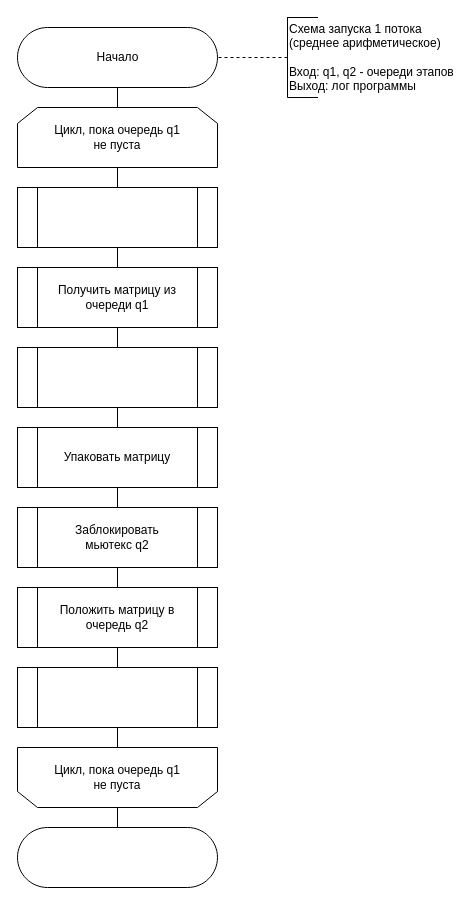
The diagram is 472 pixels wide and 905 high, and some of its shapes have lost their labels. The shapes that lost their labels are listed below. From the top down, each one's box as (x1, y1, x2, y2) in pixels, then its label:
(16, 186, 218, 248): Заблокировать мьютекс q1
(16, 346, 218, 408): Разблокировать мьютекс q1
(16, 666, 218, 728): Разблокировать мьютекс q2
(16, 826, 218, 888): Конец
